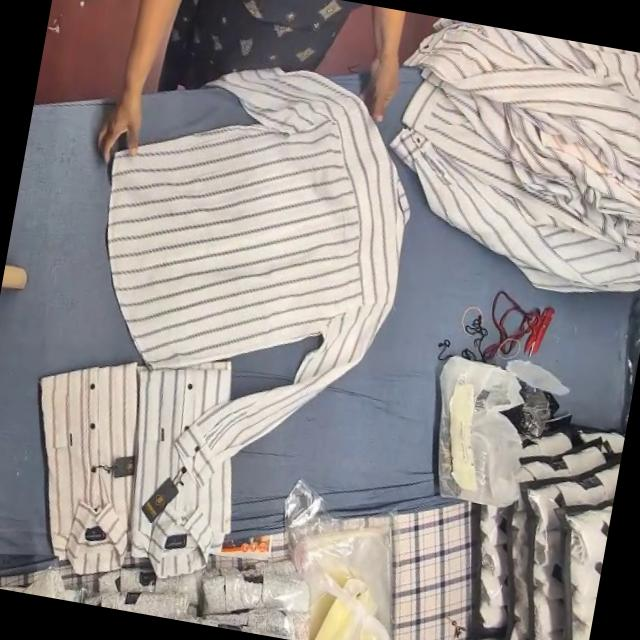new-garment: (107, 69, 405, 474)
